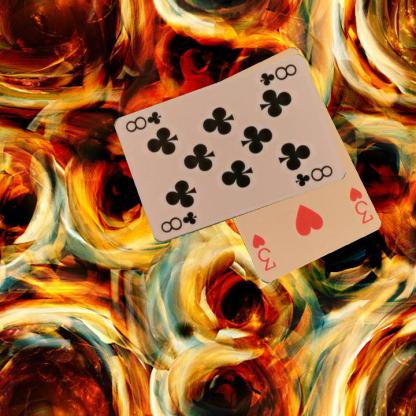3h: (346, 184, 374, 225)
8c: (257, 61, 298, 88), (158, 209, 198, 235)
